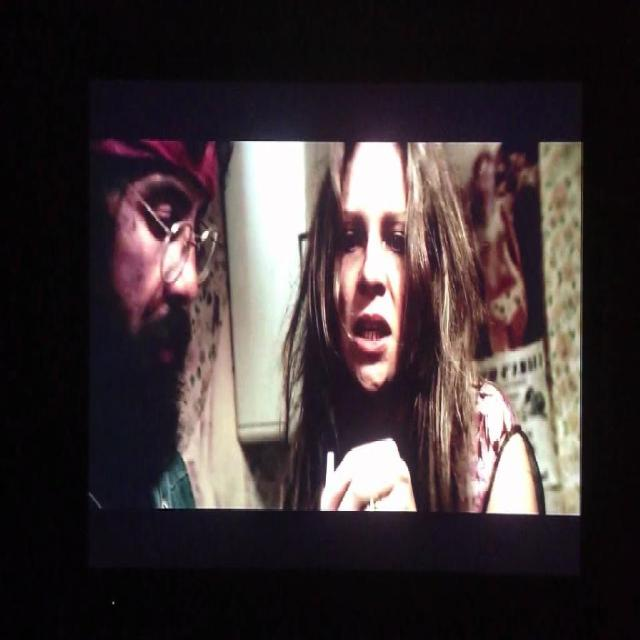smoking: (319, 143, 426, 510)
